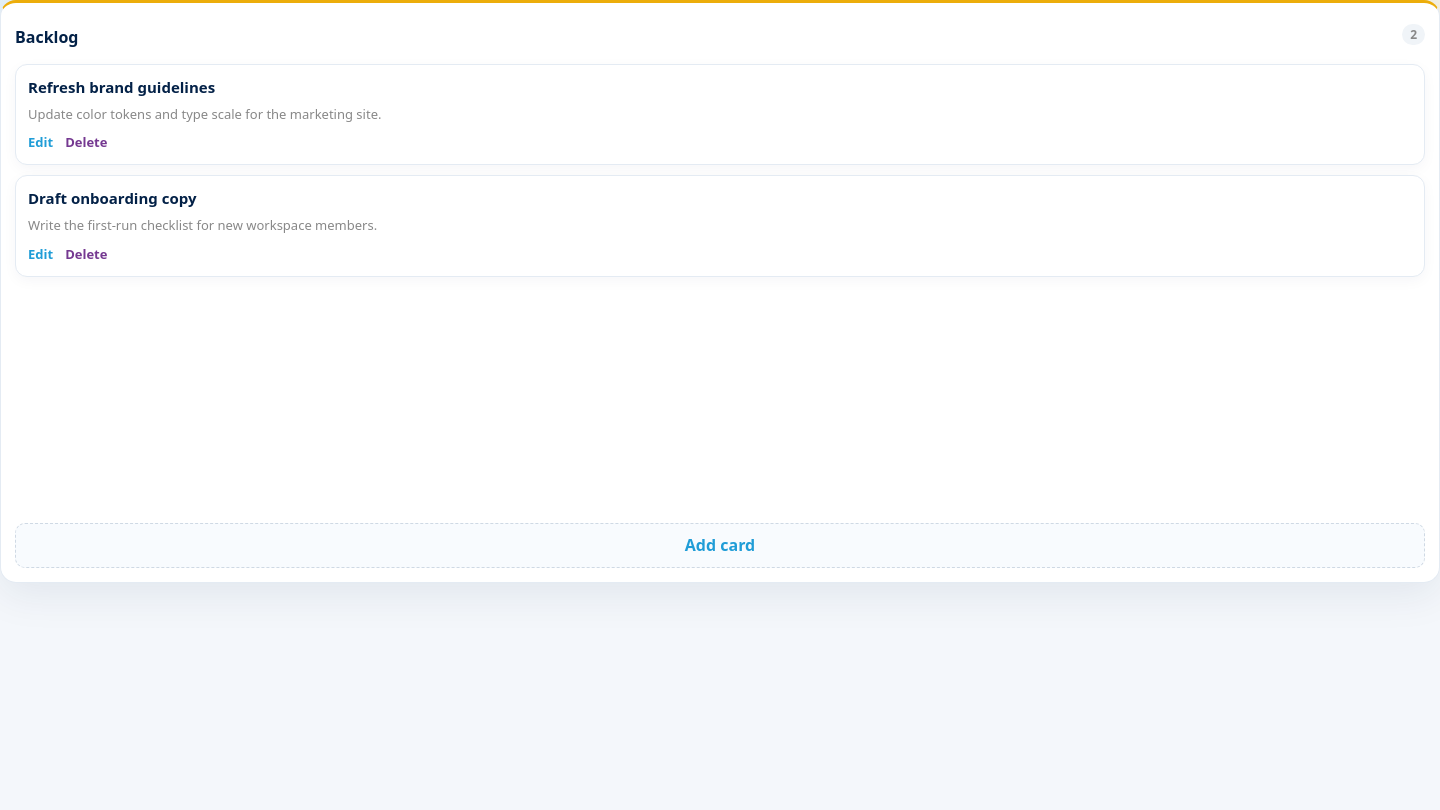
Test case: ColumnView › restores the title on Escape
Click the button with test id "column-title-col-backlog".
click(47, 38)  # box [15,26,78,49]
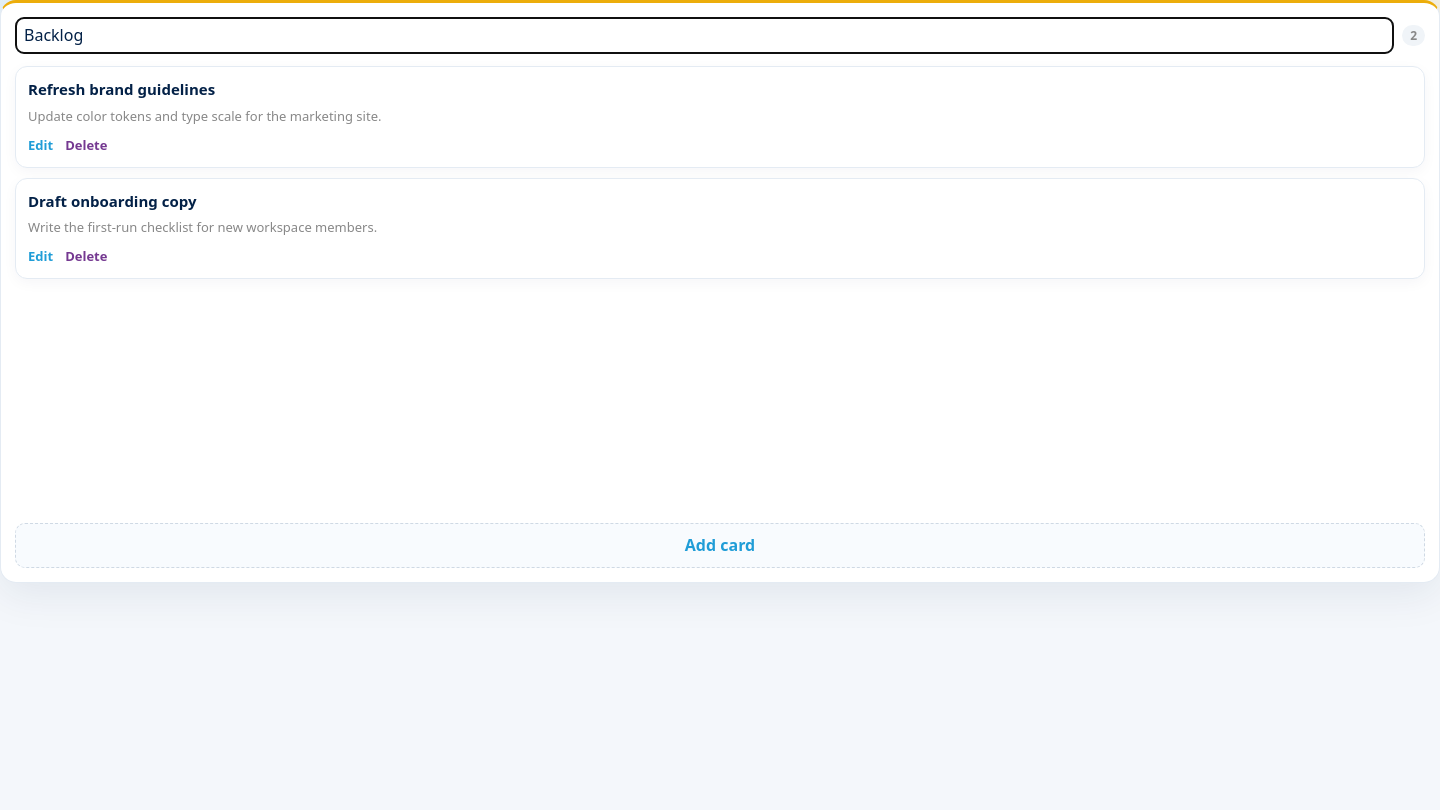
Replace the text in the field with test id "column-title-input-col-backlog" with "Temp" at [705, 36], box [15,17,1394,54]
Then press Escape
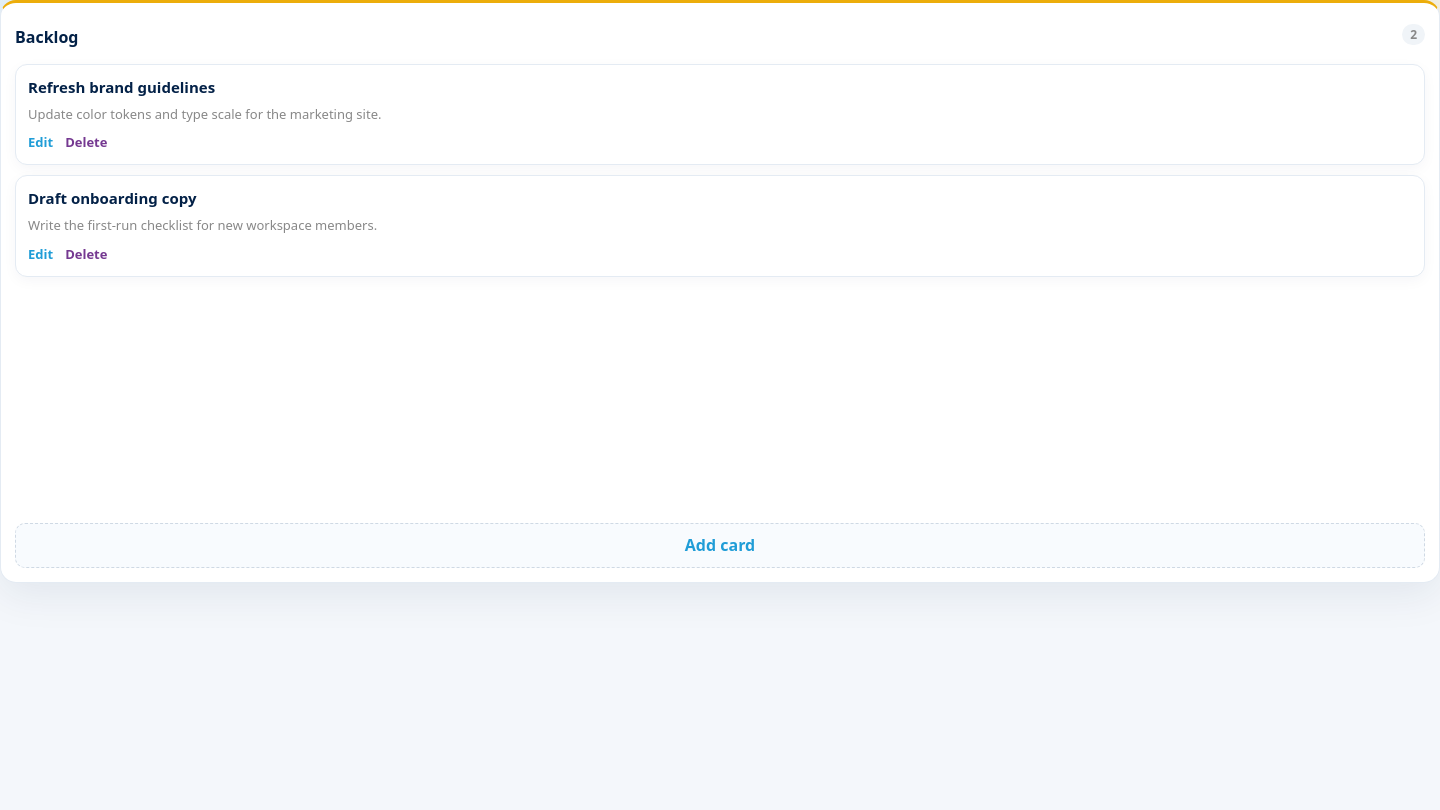
Expected: the button with test id "column-title-col-backlog" reads "Backlog", [15,26,78,49]
